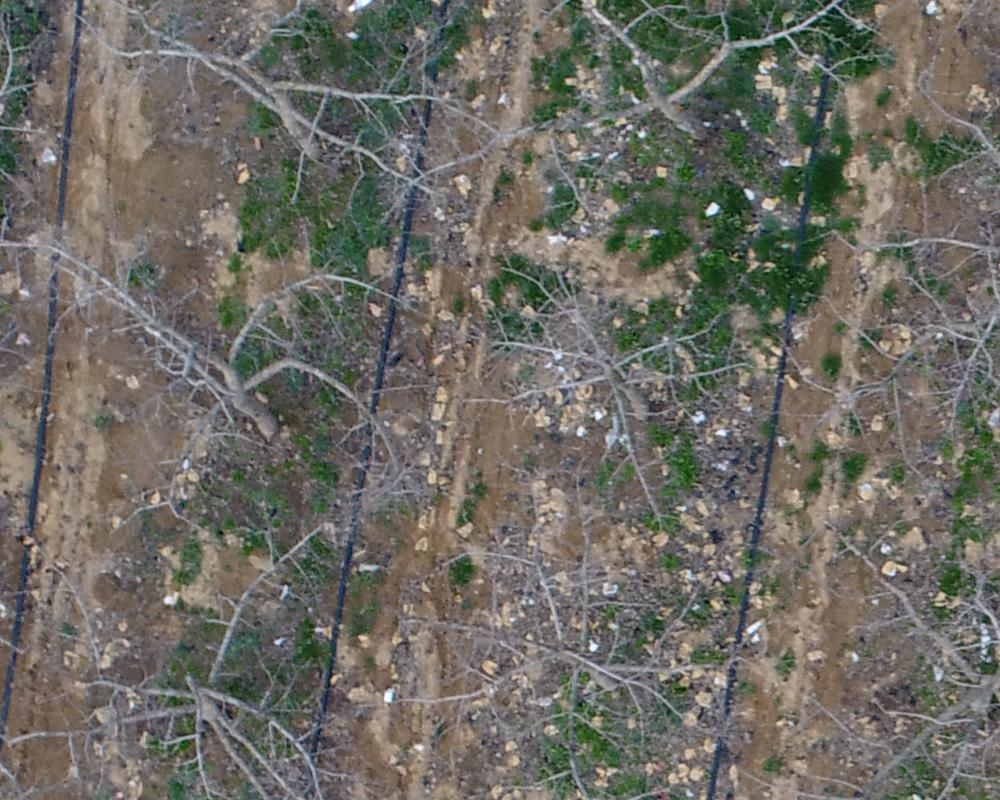apple: (10, 217, 436, 524), (10, 517, 406, 790), (52, 10, 496, 235), (392, 512, 749, 790), (449, 252, 756, 541), (470, 10, 886, 212), (793, 92, 990, 496), (779, 481, 990, 790)
